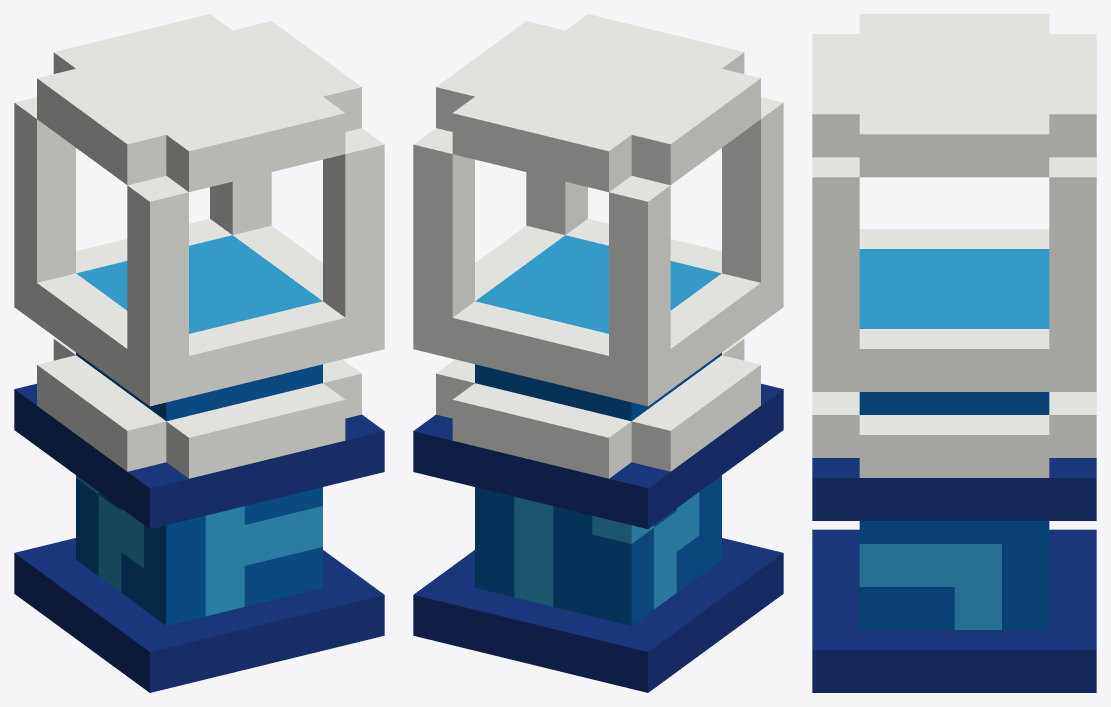
The model's file is Insert_Node.fbx.
3 renders of one model, left to right at view 1: azimuth 30°, elevation 25°; view 2: azimuth 150°, elevation 25°; view 3: azimuth 270°, elevation 25°, orthographic. The views are drawn at different scales.
Visible parts, largest first — view 1: Insert Node; view 2: Insert Node; view 3: Insert Node.
Part boxes in pixels (left/top/right/bottom): Insert Node: left=14, top=14, right=384, bottom=692; Insert Node: left=413, top=14, right=783, bottom=692; Insert Node: left=812, top=14, right=1096, bottom=692.
Size of the model in its own units: 0.6 by 1.3 by 0.6.
1 material, 1 textured.
